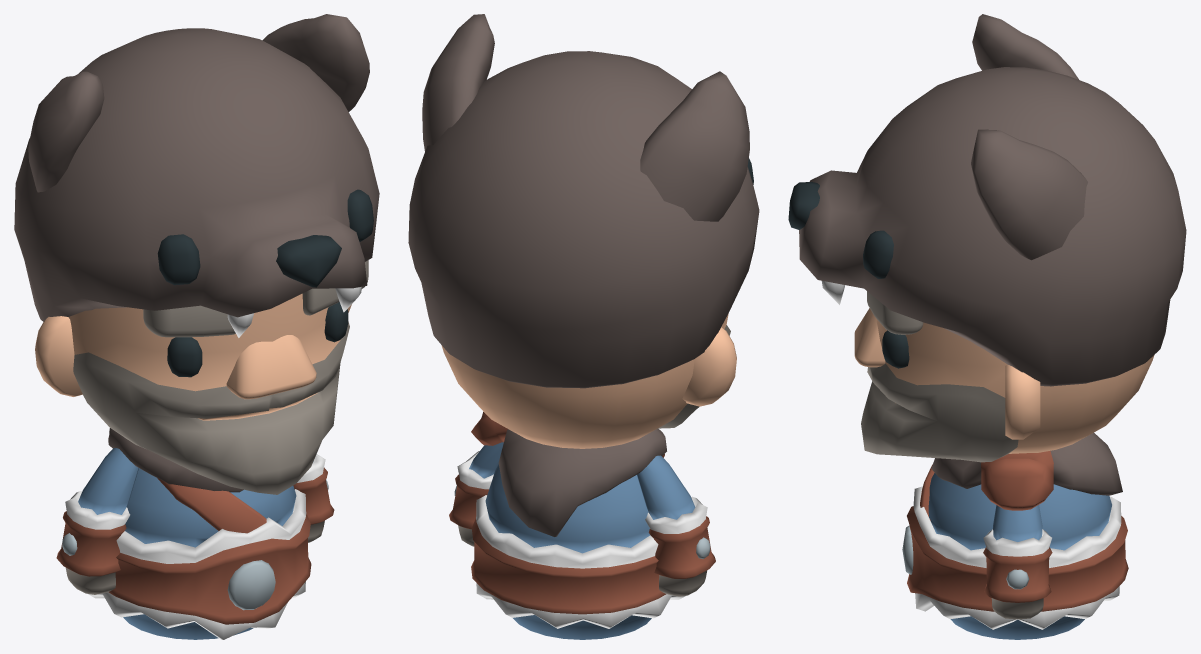
Rendered from character_barbarian.gltf.
3 views of the same model, side by side, from view 1: azimuth 30°, elevation 25°; view 2: azimuth 150°, elevation 25°; view 3: azimuth 270°, elevation 25° (orthographic). The views are drawn at different scales.
Visible parts, largest first — view 1: character_barbarianHat, character_barbarianHead, character_barbarianBody, character_barbarianArmRight, character_barbarianArmLeft; view 2: character_barbarianHat, character_barbarianBody, character_barbarianHead, character_barbarianArmRight, character_barbarianArmLeft; view 3: character_barbarianHat, character_barbarianBody, character_barbarianHead, character_barbarianArmLeft.
Part boxes in pixels (left/top/right/bottom): character_barbarianHat: left=14, top=14, right=379, bottom=337; character_barbarianHead: left=35, top=260, right=368, bottom=494; character_barbarianBody: left=88, top=428, right=311, bottom=639; character_barbarianArmRight: left=56, top=448, right=138, bottom=594; character_barbarianArmLeft: left=293, top=454, right=334, bottom=542; character_barbarianHat: left=408, top=14, right=759, bottom=388; character_barbarianBody: left=471, top=412, right=685, bottom=639; character_barbarianHead: left=441, top=313, right=736, bottom=448; character_barbarianArmRight: left=637, top=455, right=715, bottom=596; character_barbarianArmLeft: left=449, top=442, right=503, bottom=546; character_barbarianHat: left=788, top=14, right=1186, bottom=386; character_barbarianBody: left=902, top=432, right=1128, bottom=639; character_barbarianHead: left=854, top=291, right=1154, bottom=462; character_barbarianArmLeft: left=983, top=505, right=1052, bottom=619.
Size of the model in its own units: 1.22 by 2.05 by 1.38.
